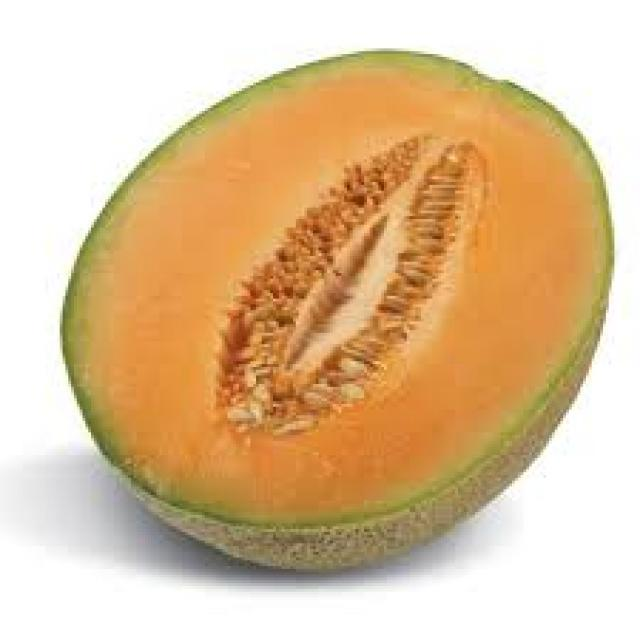Hami Melon: (60, 47, 613, 576)
